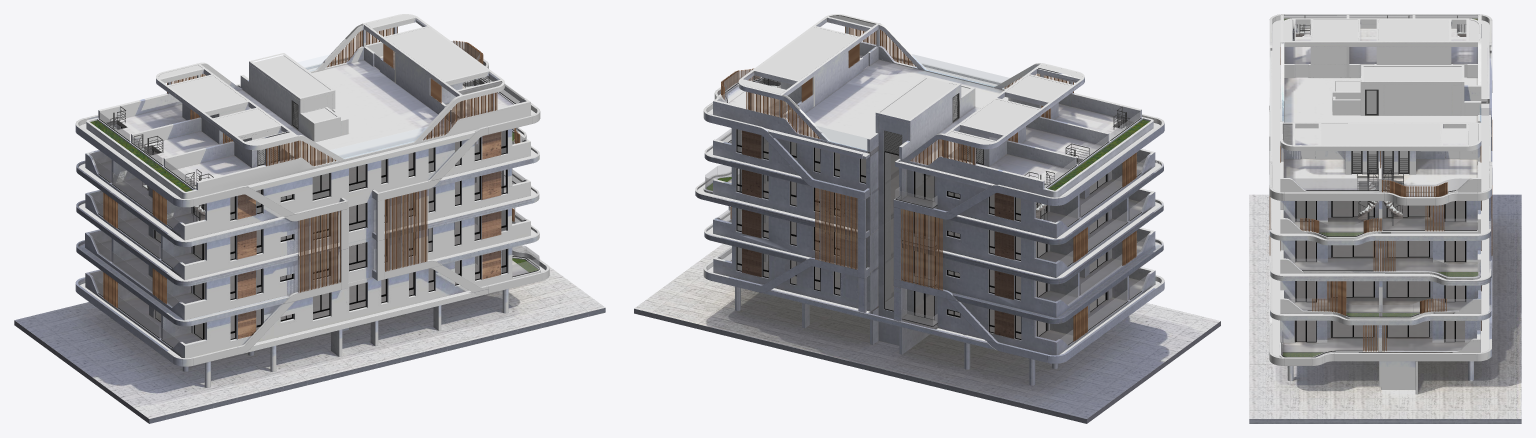
File: type-e.glb
The picture shows the model from 3 angles, left to right: view 1: azimuth 30°, elevation 25°; view 2: azimuth 150°, elevation 25°; view 3: azimuth 270°, elevation 25°; orthographic projection.
Visible parts, largest first — view 1: mGroun_ Floor001, Roo_Floor001, Object_14572, RAILING - 028, 1-4 Floor, KOMA-01, ROOF_Block, KOMA-02, KOMA-004+, KOMA-003, Roof Top L, BELT- L (+15 smaller); view 2: mGroun_ Floor001, RAILING - 028, Object_14572, Roo_Floor001, 1-4 Floor, KOMA-01, KOMA-02, KOMA-004+, KOMA-003, ROOF_Block, Roof Top L, Win Glass (+17 smaller); view 3: mGroun_ Floor001, 1-4 Floor, Object_14572, Roo_Floor001, ROOF_Block, RAILING - 017, Win Glass, BELT-R, RAILING - 028, Roof Top L, Roof Top R, KOMA-02 (+14 smaller).
Part boxes in pixels (x1=…): mGroun_ Floor001: x1=14, y1=245, x2=605, y2=423; Roo_Floor001: x1=106, y1=53, x2=513, y2=186; Object_14572: x1=79, y1=15, x2=545, y2=357; RAILING - 028: x1=103, y1=26, x2=520, y2=308; 1-4 Floor: x1=96, y1=129, x2=528, y2=347; KOMA-01: x1=79, y1=248, x2=540, y2=358; ROOF_Block: x1=131, y1=27, x2=494, y2=170; KOMA-02: x1=85, y1=208, x2=530, y2=320; KOMA-004+: x1=85, y1=84, x2=530, y2=240; KOMA-003: x1=85, y1=168, x2=530, y2=280; Roof Top L: x1=86, y1=62, x2=360, y2=198; BELT- L: x1=75, y1=115, x2=348, y2=366; mGroun_ Floor001: x1=634, y1=243, x2=1220, y2=423; RAILING - 028: x1=721, y1=26, x2=1136, y2=341; Object_14572: x1=697, y1=27, x2=1161, y2=354; Roo_Floor001: x1=729, y1=52, x2=1133, y2=184; 1-4 Floor: x1=728, y1=119, x2=1143, y2=344; KOMA-01: x1=713, y1=246, x2=1155, y2=355; KOMA-02: x1=713, y1=207, x2=1155, y2=317; KOMA-004+: x1=713, y1=83, x2=1155, y2=238; KOMA-003: x1=713, y1=167, x2=1155, y2=277; ROOF_Block: x1=748, y1=27, x2=1109, y2=169; Roof Top L: x1=902, y1=63, x2=1153, y2=197; Win Glass: x1=737, y1=129, x2=1105, y2=338; mGroun_ Floor001: x1=1249, y1=194, x2=1521, y2=423; 1-4 Floor: x1=1282, y1=115, x2=1477, y2=354; Object_14572: x1=1272, y1=19, x2=1489, y2=356; Roo_Floor001: x1=1283, y1=28, x2=1477, y2=192; ROOF_Block: x1=1281, y1=15, x2=1489, y2=191; RAILING - 017: x1=1281, y1=15, x2=1491, y2=357; Win Glass: x1=1297, y1=186, x2=1464, y2=341; BELT-R: x1=1269, y1=151, x2=1492, y2=365; RAILING - 028: x1=1269, y1=47, x2=1492, y2=351; Roof Top L: x1=1280, y1=15, x2=1481, y2=107; Roof Top R: x1=1280, y1=107, x2=1481, y2=195; KOMA-02: x1=1280, y1=281, x2=1481, y2=319.
Bounding box in the file's own units: 39.02 × 19.31 × 20.
Materials: 40 (25 with a texture image).
